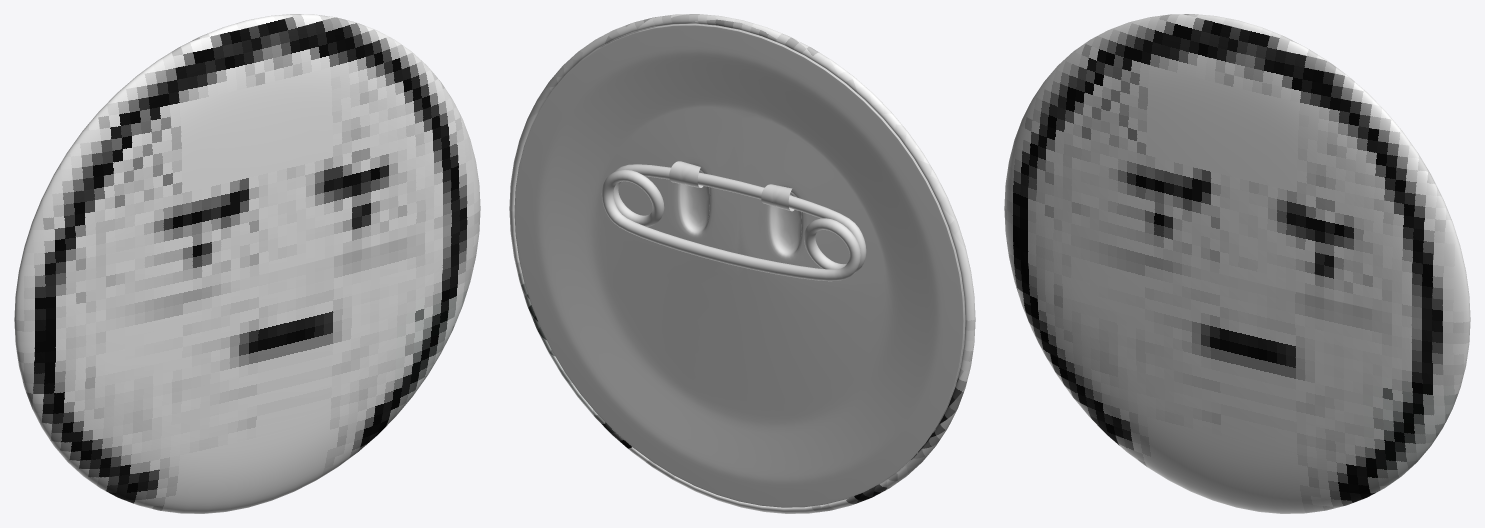
3 renders of one model, left to right at view 1: azimuth 30°, elevation 25°; view 2: azimuth 150°, elevation 25°; view 3: azimuth 330°, elevation 25°, orthographic.
Parts seen in each view (by area): view 1: forward; view 2: back, forward, needle, ring; view 3: forward.
Part boxes in pixels (x1,y1,x2,y2): forward: (14, 14, 480, 513); back: (514, 24, 965, 507); forward: (509, 14, 975, 513); needle: (601, 164, 866, 281); ring: (669, 161, 794, 211); forward: (1004, 14, 1470, 513).
Size of the model in its own units: 1.75 by 1.75 by 0.221.
Materials: 2 (1 with a texture image).
